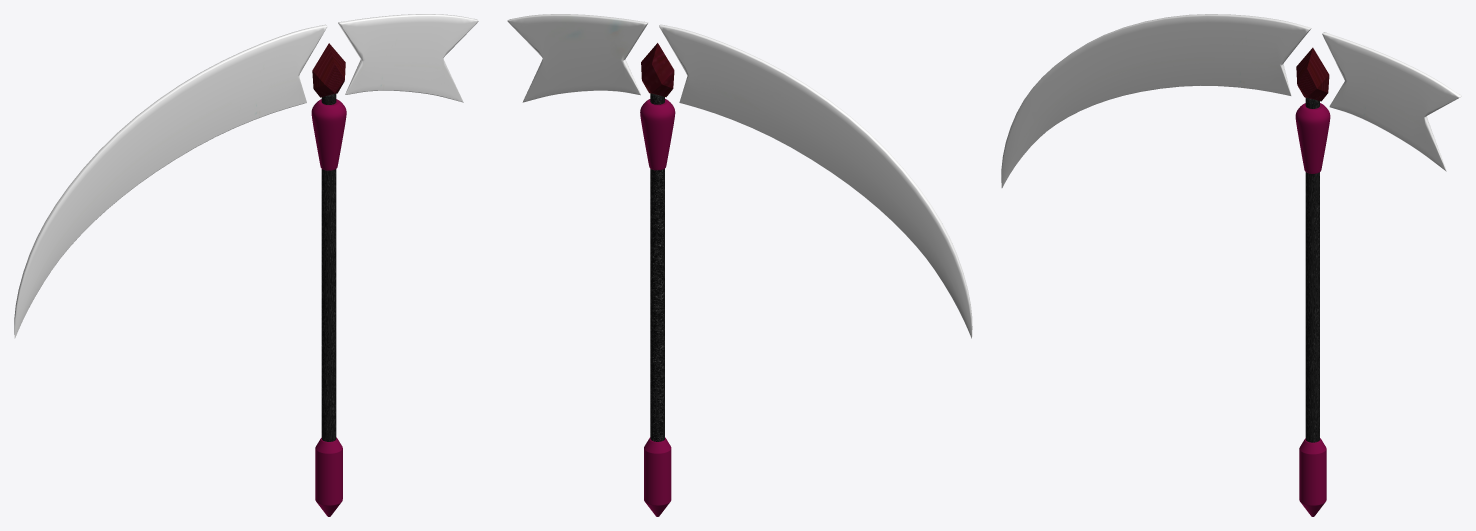
Rendered from guadana.obj.
3 renders of one model, left to right at view 1: azimuth 30°, elevation 25°; view 2: azimuth 150°, elevation 25°; view 3: azimuth 330°, elevation 25°, orthographic.
Parts seen in each view (by area): view 1: Cube; view 2: Cube; view 3: Cube.
Boxes of the visible parts, x1,y1,x2,y2 form: Cube: (14, 14, 478, 516); Cube: (507, 14, 972, 516); Cube: (1001, 14, 1461, 516).
Bounding box in the file's own units: 4.16 × 4.22 × 0.2726.
4 materials, 4 textured.
